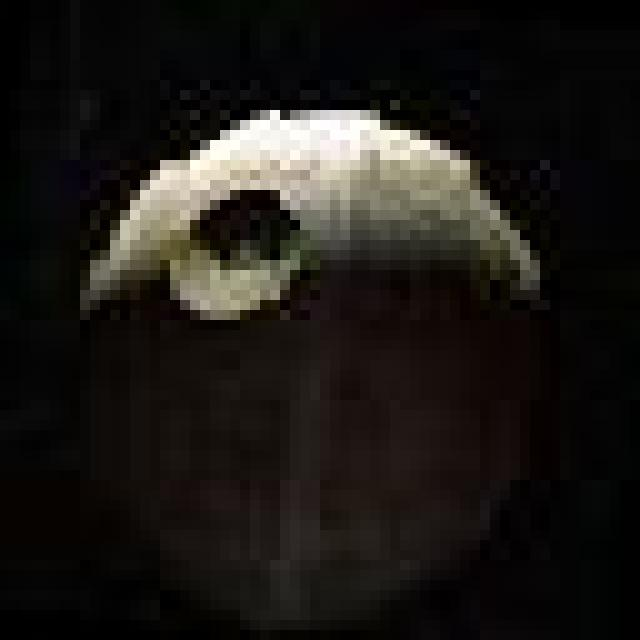Death Star: (65, 91, 574, 627)
